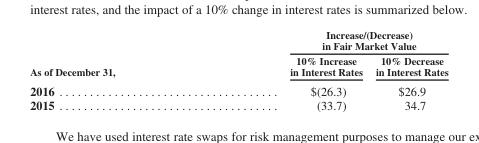table: (29, 28, 447, 112)
table column: (29, 28, 201, 112), (201, 28, 368, 112), (368, 28, 447, 112)
table column header: (29, 28, 447, 79)
table row: (29, 52, 447, 79), (29, 28, 447, 52), (29, 79, 447, 97), (29, 97, 447, 112)
table spanning cell: (29, 28, 201, 79), (201, 28, 447, 52)
